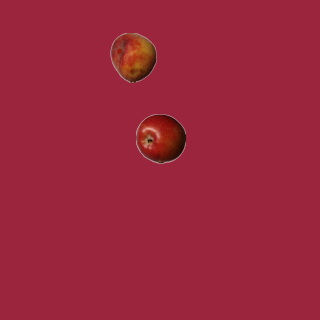Apple Braeburn: (135, 113, 185, 163)
Peach: (108, 32, 158, 82)
